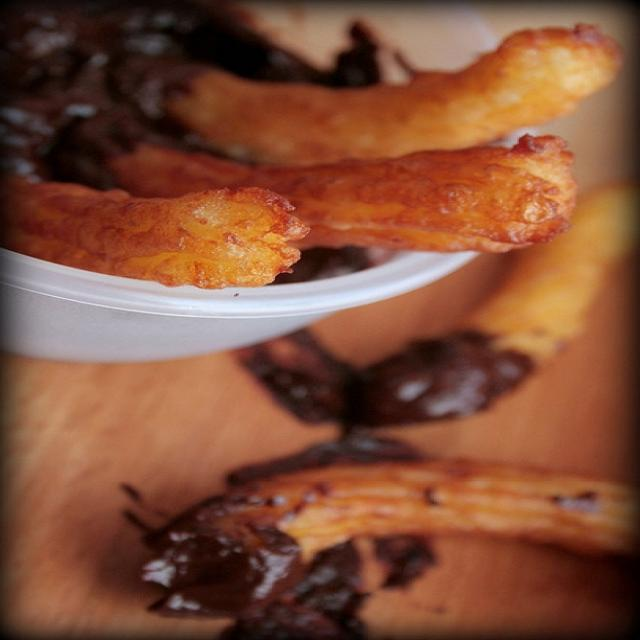炸货点心: (26, 15, 612, 608)
